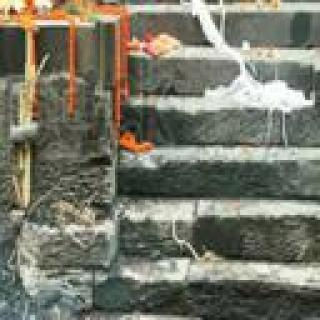fire: (0, 0, 52, 10)
